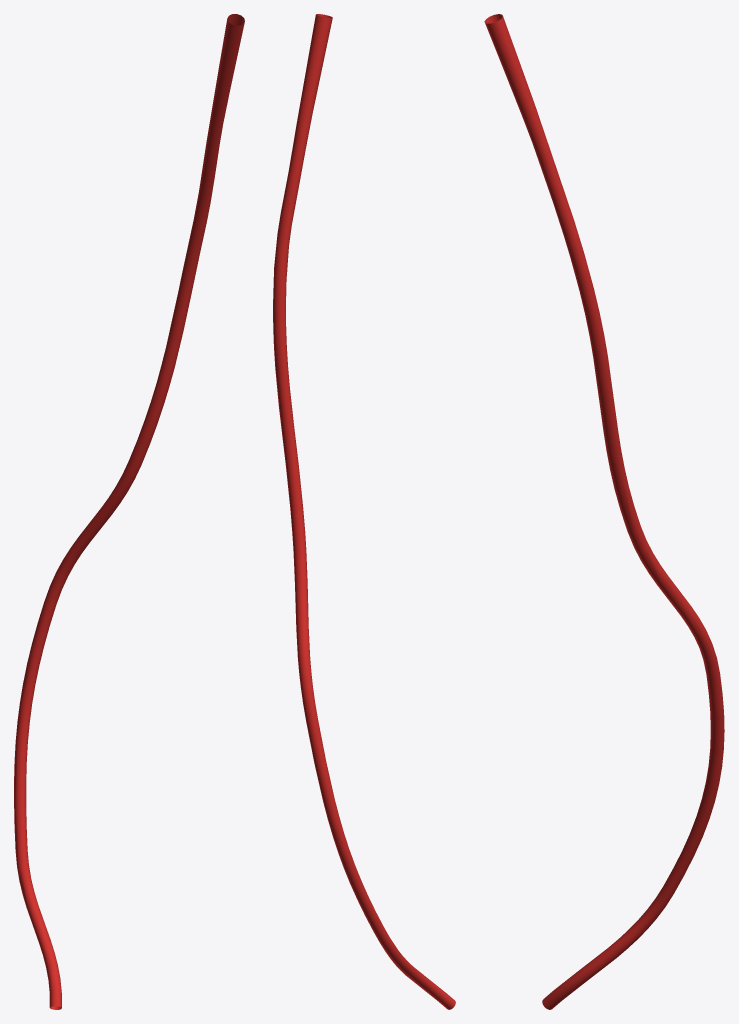
The model's file is circulatorio-superior-ulnar-collateral-artery-r.glb.
3 views of the same model, side by side, from view 1: azimuth 30°, elevation 25°; view 2: azimuth 150°, elevation 25°; view 3: azimuth 270°, elevation 25° (orthographic). The views are drawn at different scales.
Parts seen in each view (by area): view 1: Superior ulnar collateral artery.r; view 2: Superior ulnar collateral artery.r; view 3: Superior ulnar collateral artery.r.
Boxes of the visible parts, x1=… form: Superior ulnar collateral artery.r: x1=14, y1=14, x2=244, y2=1009; Superior ulnar collateral artery.r: x1=273, y1=14, x2=455, y2=1009; Superior ulnar collateral artery.r: x1=484, y1=14, x2=724, y2=1009.
Bounding box in the file's own units: 0.0222 × 0.1199 × 0.0242.
